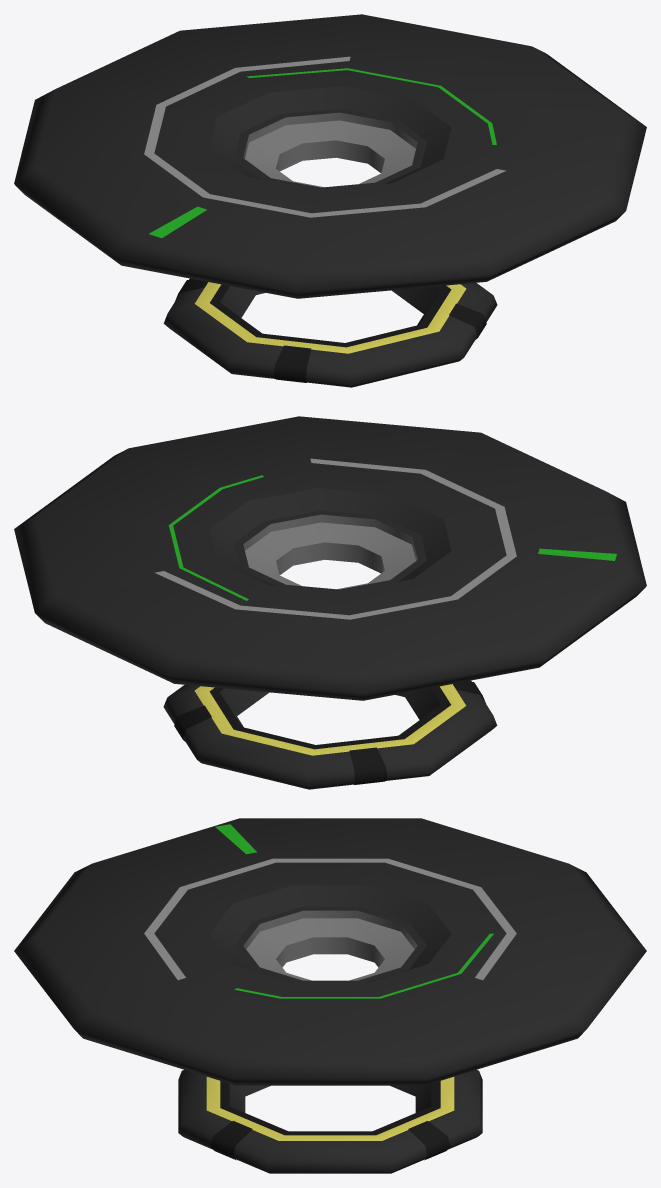
File: W_O_Info_004_L3.fbx
3 views of the same model, one above another, from view 1: azimuth 30°, elevation 25°; view 2: azimuth 150°, elevation 25°; view 3: azimuth 270°, elevation 25° (orthographic). The views are drawn at different scales.
Visible parts, largest first — view 1: W_O_Info_004_L3; view 2: W_O_Info_004_L3; view 3: W_O_Info_004_L3.
Part boxes in pixels (x1,y1,x2,y2): W_O_Info_004_L3: (14,14,646,387); W_O_Info_004_L3: (14,416,646,789); W_O_Info_004_L3: (14,818,646,1173).
Bounding box in the file's own units: 2.73 × 0.8893 × 2.87.
